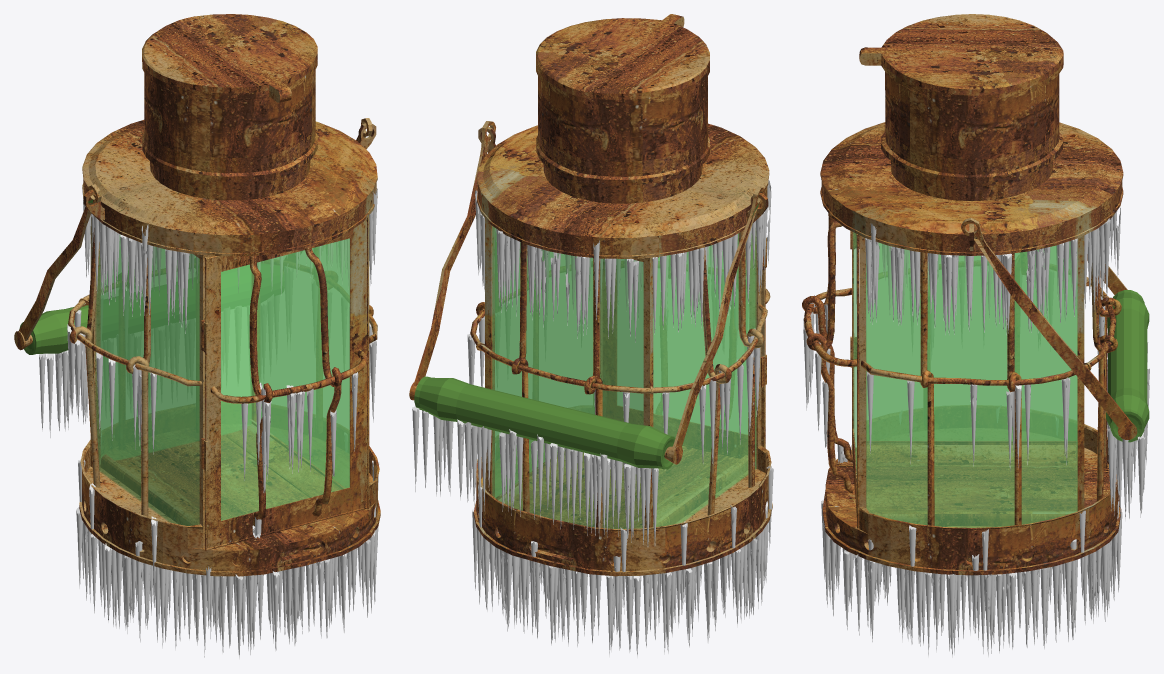
The model's file is lantern2final.fbx.
The picture shows the model from 3 angles, left to right: view 1: azimuth 30°, elevation 25°; view 2: azimuth 150°, elevation 25°; view 3: azimuth 270°, elevation 25°; orthographic projection.
Parts seen in each view (by area): view 1: Lantern, Door, Ice, Lid, Handle, DoorIce, HandleSpikes; view 2: Lantern, Ice, Door, Handle, HandleSpikes, Lid; view 3: Lantern, Ice, Lid, Handle, Door, HandleSpikes, DoorIce.
Boxes of the visible parts, x1,y1,x2,y2 form: Lantern: (68,60,380,576); Door: (203,216,368,550); Ice: (67,188,379,659); Lid: (142,14,317,98); Handle: (14,118,372,354); DoorIce: (241,372,358,538); HandleSpikes: (39,345,88,437); Lantern: (470,22,772,576); Ice: (467,180,773,658); Door: (603,233,770,458); Handle: (409,121,764,469); HandleSpikes: (412,406,658,546); Lid: (536,14,709,99); Lantern: (820,57,1123,575); Ice: (821,207,1122,657); Lid: (859,14,1063,95); Handle: (961,217,1149,442); Door: (802,213,859,528); HandleSpikes: (1107,329,1149,521); DoorIce: (803,296,847,463).
Size of the model in its own units: 36.77 by 66.57 by 38.09.
